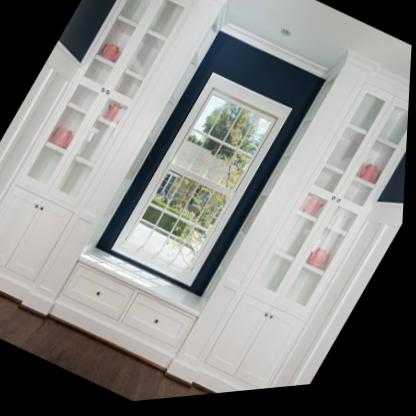Window: (108, 66, 297, 299)
